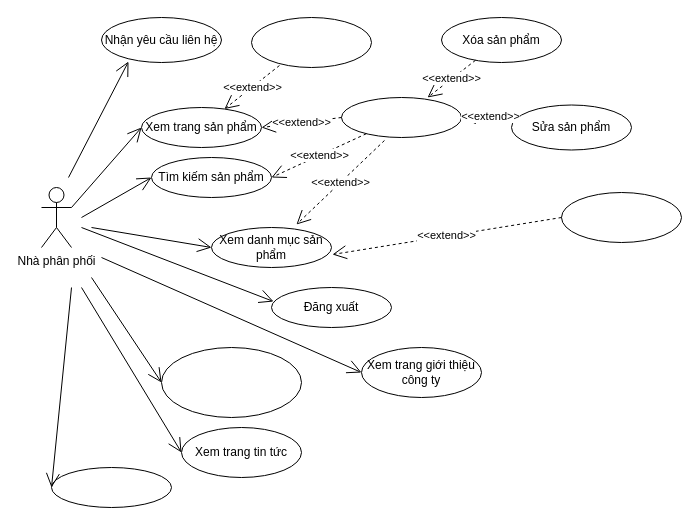
This 699x525 diagram has some shape labels left out. Here are the shapes that lost their labels. From the top down, the centre of each, then its label:
the point at 311,42: Thêm danh mục sản phẩm
the point at 401,117: Xem chi tiết sản phẩm
the point at 621,217: Thêm sản phẩm
the point at 231,382: Xem trang thông tin liên hệ nhà phân phối
the point at 111,487: Xem thông tin khác
